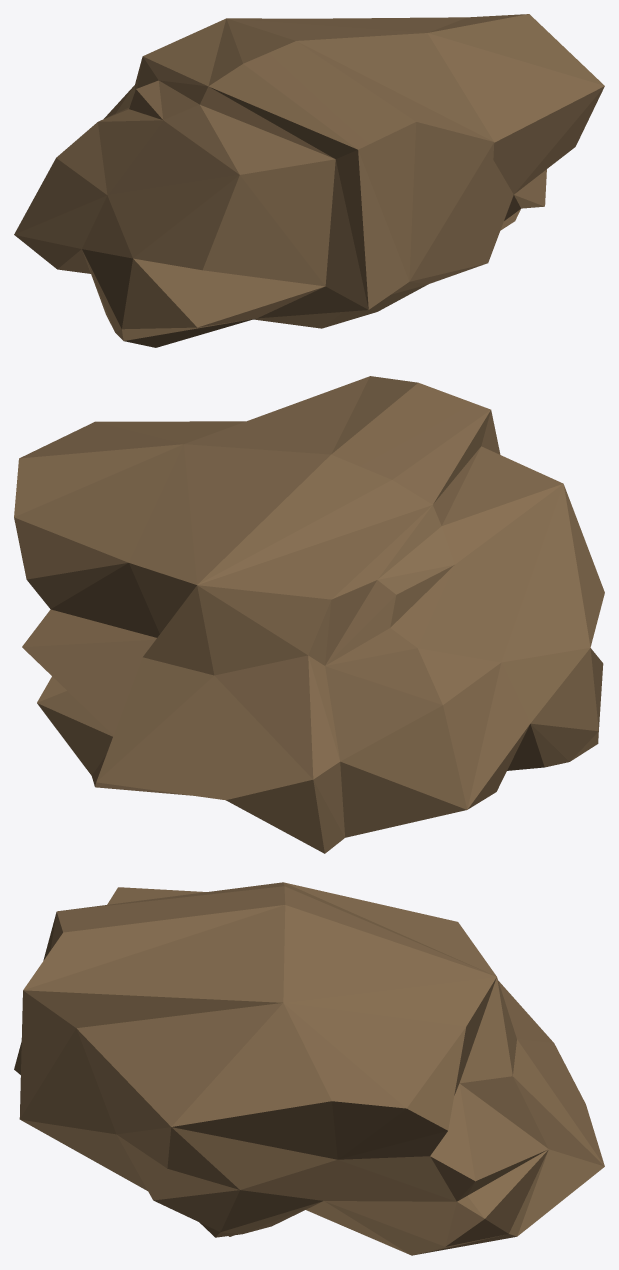
The model's file is SM_Env_Rock_011.gltf.
The picture shows the model from 3 angles, top to bottom: view 1: azimuth 30°, elevation 25°; view 2: azimuth 150°, elevation 25°; view 3: azimuth 270°, elevation 25°; orthographic projection. The views are drawn at different scales.
Parts seen in each view (by area): view 1: SM_Env_Rock_011; view 2: SM_Env_Rock_011; view 3: SM_Env_Rock_011.
Boxes of the visible parts, bbox=[...] form: SM_Env_Rock_011: bbox=[14, 14, 604, 347]; SM_Env_Rock_011: bbox=[14, 376, 604, 853]; SM_Env_Rock_011: bbox=[14, 882, 604, 1255].
Bounding box in the file's own units: 2.72 × 1.51 × 2.67.
Materials: 1 (1 with a texture image).
